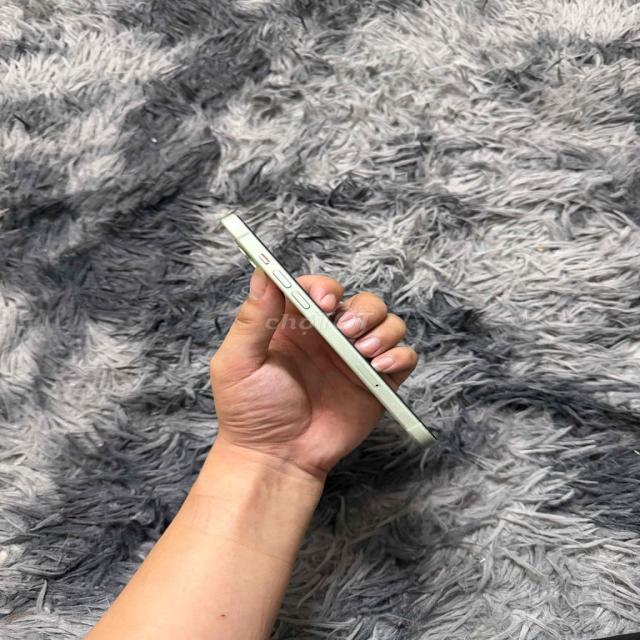gen_15: (208, 189, 447, 468)
